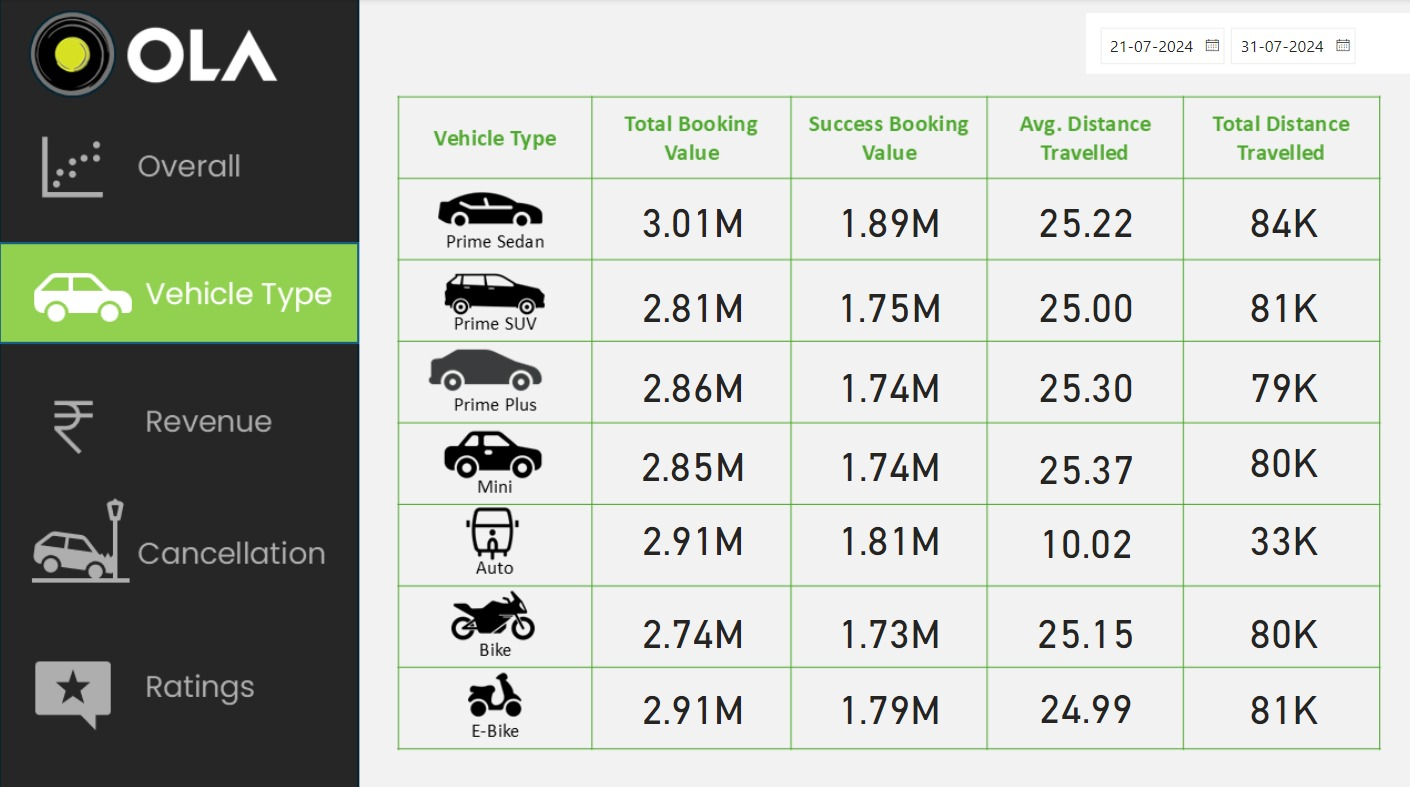

The dashboard page shown, as its layout file describes it:
{"tool":"powerbi","page":{"name":"vehicletype","canvas":[1280,720],"ordinal":1},"visuals":[{"type":"actionButton","box":[0,235.2,323.1,78.4],"z":0},{"type":"actionButton","box":[0,350.1,323.1,66.2],"z":1000},{"type":"actionButton","box":[10,245.2,323.1,93.3],"z":2000},{"type":"actionButton","box":[0,337.9,323.1,93.3],"z":3000},{"type":"actionButton","box":[0,385.2,363.6,31.1],"z":4000},{"type":"actionButton","box":[0,558.3,323.1,93.3],"z":5000},{"type":"card","fields":{"Values":["Sum(Bookings.Booking_Value)"]},"box":[534.8,332.6,177.6,51],"z":6000},{"type":"card","fields":{"Values":["Sum(Bookings.Booking_Value)"]},"box":[534.8,260.8,177.6,51],"z":7000},{"type":"card","fields":{"Values":["Sum(Bookings.Booking_Value)"]},"box":[534.8,404.4,177.6,51],"z":8000},{"type":"card","fields":{"Values":["Sum(Bookings.Booking_Value)"]},"box":[534.8,470.6,177.6,51],"z":9000},{"type":"card","fields":{"Values":["Sum(Bookings.Booking_Value)"]},"box":[534.8,553.7,177.6,51],"z":10000},{"type":"card","fields":{"Values":["Sum(Bookings.Booking_Value)"]},"box":[534.8,623.6,177.6,51],"z":11000},{"type":"card","fields":{"Values":["Sum(Bookings.Booking_Value)"]},"box":[534.8,183.3,177.6,51],"z":12000},{"type":"card","fields":{"Values":["Sum(Bookings.Booking_Value)"]},"box":[712.4,183.3,177.6,51],"z":13000},{"type":"card","fields":{"Values":["Sum(Bookings.Booking_Value)"]},"box":[712.4,260.8,177.6,51],"z":14000},{"type":"card","fields":{"Values":["Sum(Bookings.Booking_Value)"]},"box":[712.4,332.6,177.6,51],"z":15000},{"type":"card","fields":{"Values":["Sum(Bookings.Booking_Value)"]},"box":[712.4,404.4,177.6,51],"z":16000},{"type":"card","fields":{"Values":["Sum(Bookings.Booking_Value)"]},"box":[712.4,470.6,177.6,51],"z":17000},{"type":"card","fields":{"Values":["Sum(Bookings.Booking_Value)"]},"box":[712.4,553.7,177.6,51],"z":18000},{"type":"card","fields":{"Values":["Sum(Bookings.Booking_Value)"]},"box":[712.4,623.6,177.6,51],"z":19000},{"type":"card","fields":{"Values":["Avg(Bookings.Ride_Distance)"]},"box":[890.1,183.3,177.6,51],"z":20000},{"type":"card","fields":{"Values":["Avg(Bookings.Ride_Distance)"]},"box":[890.1,260.8,177.6,51],"z":21000},{"type":"card","fields":{"Values":["Avg(Bookings.Ride_Distance)"]},"box":[890.1,332.6,177.6,51],"z":22000},{"type":"card","fields":{"Values":["Avg(Bookings.Ride_Distance)"]},"box":[890.1,406.3,177.6,51],"z":23000},{"type":"card","fields":{"Values":["Avg(Bookings.Ride_Distance)"]},"box":[890.1,472.4,177.6,51],"z":24000},{"type":"card","fields":{"Values":["Avg(Bookings.Ride_Distance)"]},"box":[890.1,553.7,177.6,51],"z":25000},{"type":"card","fields":{"Values":["Avg(Bookings.Ride_Distance)"]},"box":[890.1,621.7,177.6,51],"z":26000},{"type":"card","fields":{"Values":["Sum(Bookings.Ride_Distance)"]},"box":[1067.7,183.3,177.6,51],"z":27000},{"type":"card","fields":{"Values":["Sum(Bookings.Ride_Distance)"]},"box":[1067.7,260.8,177.6,51],"z":28000},{"type":"card","fields":{"Values":["Sum(Bookings.Ride_Distance)"]},"box":[1067.7,332.6,177.6,51],"z":29000},{"type":"card","fields":{"Values":["Sum(Bookings.Ride_Distance)"]},"box":[1067.7,400.6,177.6,51],"z":30000},{"type":"card","fields":{"Values":["Sum(Bookings.Ride_Distance)"]},"box":[1067.7,470.6,177.6,51],"z":31000},{"type":"card","fields":{"Values":["Sum(Bookings.Ride_Distance)"]},"box":[1067.7,553.7,177.6,51],"z":32000},{"type":"card","fields":{"Values":["Sum(Bookings.Ride_Distance)"]},"box":[1067.7,623.6,177.6,51],"z":33000},{"type":"slicer","title":"Date","fields":{"Values":["Bookings.Date"]},"box":[978.2,13.6,292.2,54.5],"z":34000}]}

Visuals, with their boxes on the page's 1280x720 design canvas (x1, y1, x2, y2). These are canvas units, not pixel positions in the 1410x787 screenshot, which may show the page scaled, cropped or inside an application window:
actionButton: (0,235,323,314)
actionButton: (0,350,323,416)
actionButton: (10,245,333,338)
actionButton: (0,338,323,431)
actionButton: (0,385,364,416)
actionButton: (0,558,323,652)
card - Sum(Bookings.Booking_Value): (535,333,712,384)
card - Sum(Bookings.Booking_Value): (535,261,712,312)
card - Sum(Bookings.Booking_Value): (535,404,712,455)
card - Sum(Bookings.Booking_Value): (535,471,712,522)
card - Sum(Bookings.Booking_Value): (535,554,712,605)
card - Sum(Bookings.Booking_Value): (535,624,712,675)
card - Sum(Bookings.Booking_Value): (535,183,712,234)
card - Sum(Bookings.Booking_Value): (712,183,890,234)
card - Sum(Bookings.Booking_Value): (712,261,890,312)
card - Sum(Bookings.Booking_Value): (712,333,890,384)
card - Sum(Bookings.Booking_Value): (712,404,890,455)
card - Sum(Bookings.Booking_Value): (712,471,890,522)
card - Sum(Bookings.Booking_Value): (712,554,890,605)
card - Sum(Bookings.Booking_Value): (712,624,890,675)
card - Avg(Bookings.Ride_Distance): (890,183,1068,234)
card - Avg(Bookings.Ride_Distance): (890,261,1068,312)
card - Avg(Bookings.Ride_Distance): (890,333,1068,384)
card - Avg(Bookings.Ride_Distance): (890,406,1068,457)
card - Avg(Bookings.Ride_Distance): (890,472,1068,523)
card - Avg(Bookings.Ride_Distance): (890,554,1068,605)
card - Avg(Bookings.Ride_Distance): (890,622,1068,673)
card - Sum(Bookings.Ride_Distance): (1068,183,1245,234)
card - Sum(Bookings.Ride_Distance): (1068,261,1245,312)
card - Sum(Bookings.Ride_Distance): (1068,333,1245,384)
card - Sum(Bookings.Ride_Distance): (1068,401,1245,452)
card - Sum(Bookings.Ride_Distance): (1068,471,1245,522)
card - Sum(Bookings.Ride_Distance): (1068,554,1245,605)
card - Sum(Bookings.Ride_Distance): (1068,624,1245,675)
"Date" slicer: (978,14,1270,68)
